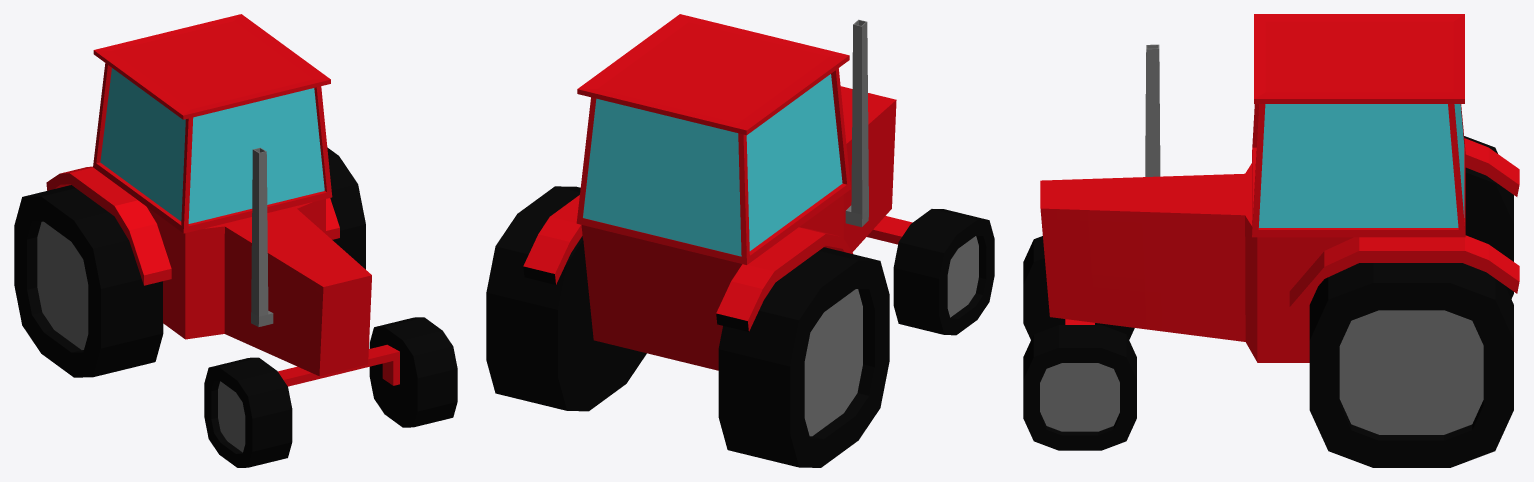
The model's file is obj_tractor.fbx.
3 views of the same model, side by side, from view 1: azimuth 30°, elevation 25°; view 2: azimuth 150°, elevation 25°; view 3: azimuth 270°, elevation 25° (orthographic). The views are drawn at different scales.
Parts seen in each view (by area): view 1: Obj_tractor; view 2: Obj_tractor; view 3: Obj_tractor.
Part boxes in pixels (x1,y1,x2,y2): Obj_tractor: [14, 14, 457, 467]; Obj_tractor: [486, 14, 994, 467]; Obj_tractor: [1023, 14, 1519, 467].
Size of the model in its own units: 285 by 292 by 392.
